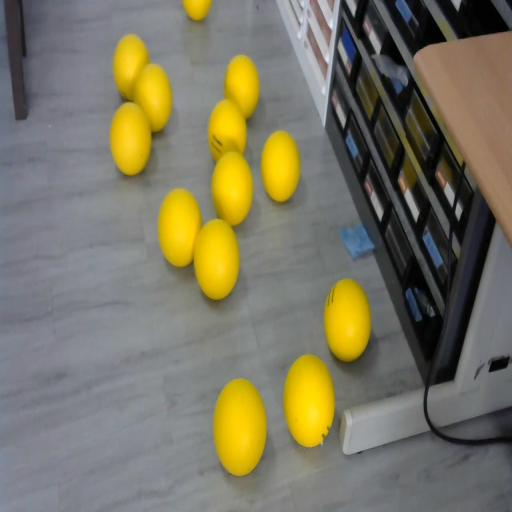FUEL: (212, 376, 266, 475), (282, 352, 336, 446), (324, 276, 371, 360), (193, 218, 240, 300), (156, 186, 203, 268), (210, 151, 254, 226), (109, 102, 152, 176), (260, 130, 300, 202), (113, 34, 150, 100), (224, 54, 260, 119), (182, 0, 213, 21)
